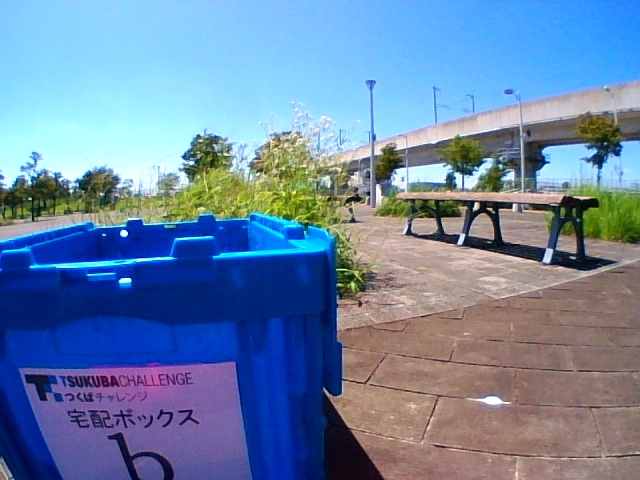blue_box: (1, 213, 339, 480)
tag_b: (67, 370, 231, 480)
